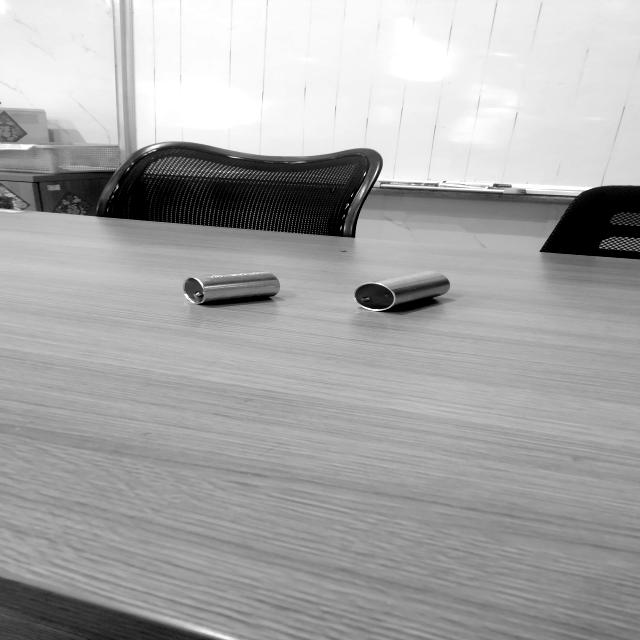Co_Lon: (351, 261, 452, 319)
Co_Nho: (182, 268, 281, 306)
